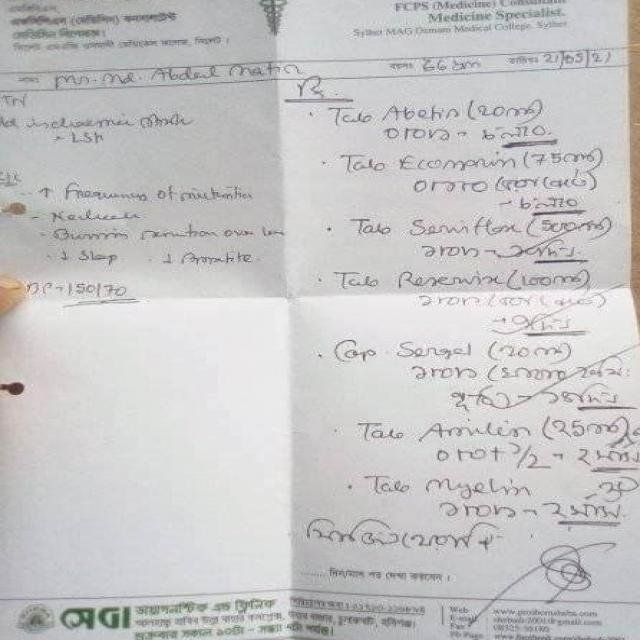Abetis Plus: (372, 97, 472, 132)
Amilin: (412, 418, 538, 445)
Ecosprin: (390, 144, 523, 180)
Myelin: (423, 474, 541, 507)
Reservix: (385, 270, 508, 293)
Sergel: (392, 336, 477, 364)
